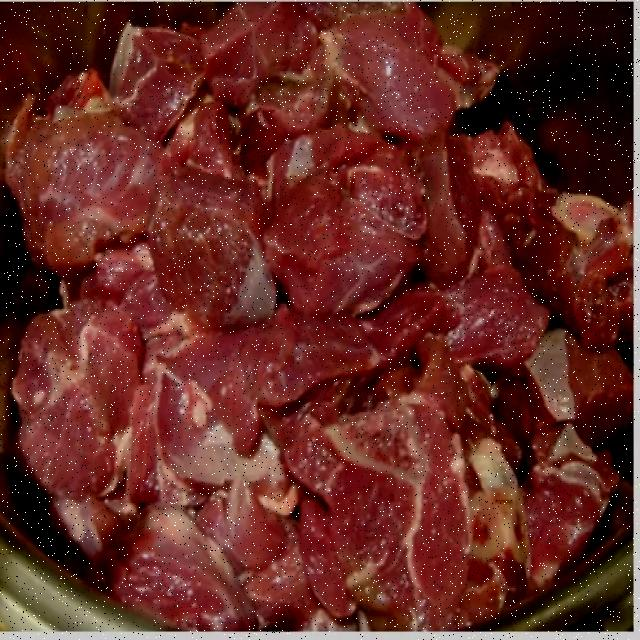Mutton: (34, 66, 626, 573)
